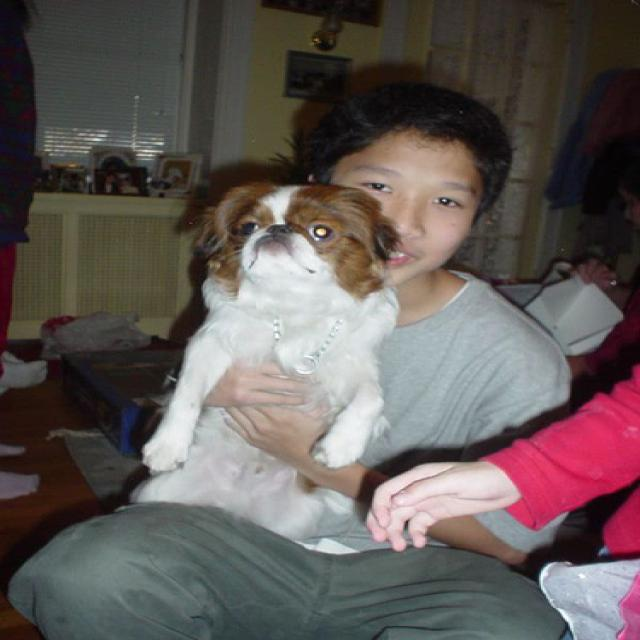dog-japanese_chin: (116, 170, 413, 557)
